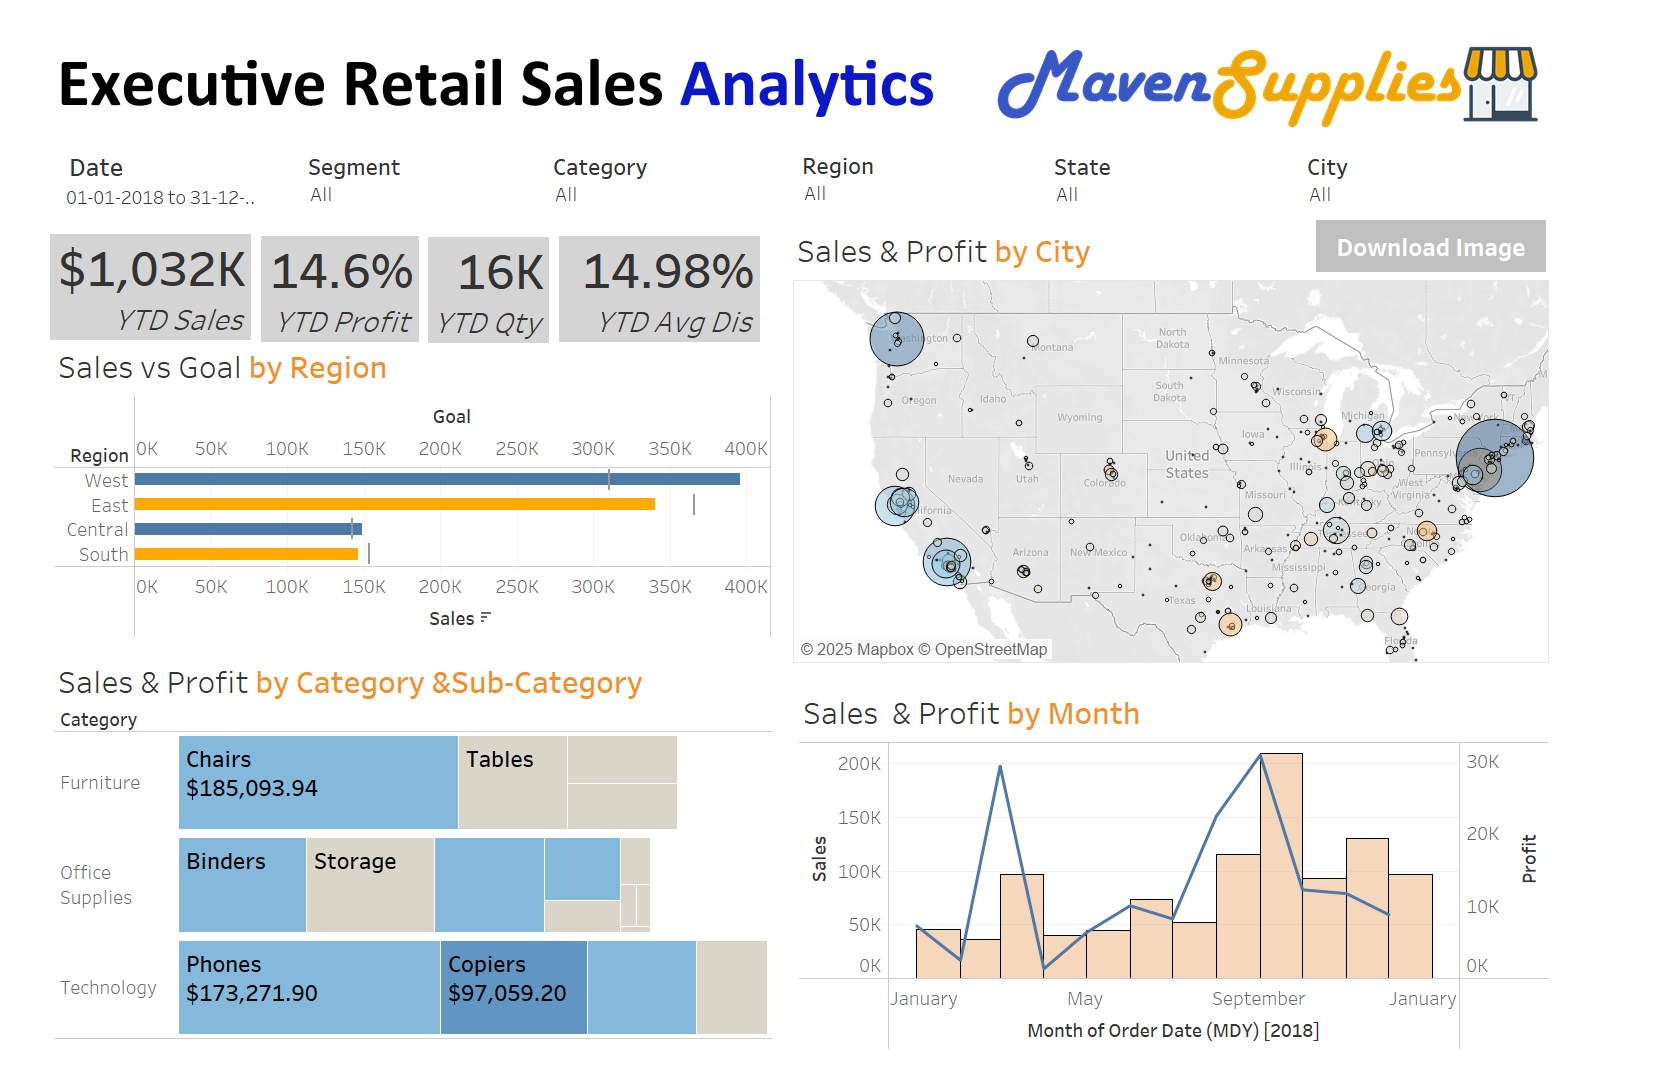

Layout of this report page (visuals, bound fields, positions):
{"tool":"tableau","page":{"name":"Dashboard 1","canvas":[1666,1068],"ordinal":0},"visuals":[{"type":"text","box":[53.1,22.5,921.5,118.7]},{"type":"image","param":"Image/Maven Supplies Logo.png","box":[988.2,34.4,549.8,115.1]},{"type":"filter","title":"Bar-Sales vs Goal ","param":"[federated.1nbz6l90fxkxe019r0o271yr07qn].[none:Order Date (MDY):qk]","box":[63,145,192,93]},{"type":"filter","title":"Bar-Sales vs Goal ","param":"[federated.1nbz6l90fxkxe019r0o271yr07qn].[none:Region:nk]","box":[802,149,199,76]},{"type":"filter","title":"Bar-Sales vs Goal ","param":"[federated.1nbz6l90fxkxe019r0o271yr07qn].[none:Segment:nk]","box":[308,150,205,95]},{"type":"filter","title":"Bar-Sales vs Goal ","param":"[federated.1nbz6l90fxkxe019r0o271yr07qn].[none:Category:nk]","box":[553,150,218,74]},{"type":"filter","title":"Bar-Sales vs Goal ","param":"[federated.1nbz6l90fxkxe019r0o271yr07qn].[none:State:nk]","box":[1054,150,195,80]},{"type":"filter","title":"Bar-Sales vs Goal ","param":"[federated.1nbz6l90fxkxe019r0o271yr07qn].[none:City:nk]","box":[1307,150,227,80]},{"type":"dashboard-object","box":[1385,206,164,52]},{"type":"worksheet","title":"YTD Sales","mark":"Automatic","box":[50,219,237,139]},{"type":"worksheet","title":"YTD Profit","mark":"Automatic","box":[239,222,172,125]},{"type":"worksheet","title":"YTD Qty","mark":"Automatic","box":[428,222,172,126]},{"type":"worksheet","title":"Map -S&P by City","mark":"Automatic","box":[793,223,756,440]},{"type":"worksheet","title":"YTD Avg Discount","mark":"Automatic","box":[573,224,234,143]},{"type":"worksheet","title":"Bar-Sales vs Goal ","mark":"Automatic","rows":["Region"],"cols":["Sales","Goal"],"box":[54,339,717,299]},{"type":"worksheet","title":"Tree-S&P by Cat&sub","mark":"Automatic","rows":["Category"],"box":[54,654,718,386]},{"type":"worksheet","title":"S&P by Month","mark":"Automatic","rows":["Sales","Profit"],"cols":["Order Date (MDY)"],"box":[799,685,750,365]}]}

Visuals, with their boxes in screenshot pixels (x1, y1, x2, y2), scaled from the page's 1666x1068 canvas onto the 1666x1068 screenshot:
text: [left=53, top=22, right=975, bottom=141]
image: [left=988, top=34, right=1538, bottom=150]
"Bar-Sales vs Goal " filter: [left=63, top=145, right=255, bottom=238]
"Bar-Sales vs Goal " filter: [left=802, top=149, right=1001, bottom=225]
"Bar-Sales vs Goal " filter: [left=308, top=150, right=513, bottom=245]
"Bar-Sales vs Goal " filter: [left=553, top=150, right=771, bottom=224]
"Bar-Sales vs Goal " filter: [left=1054, top=150, right=1249, bottom=230]
"Bar-Sales vs Goal " filter: [left=1307, top=150, right=1534, bottom=230]
dashboard-object: [left=1385, top=206, right=1549, bottom=258]
"YTD Sales" worksheet: [left=50, top=219, right=287, bottom=358]
"YTD Profit" worksheet: [left=239, top=222, right=411, bottom=347]
"YTD Qty" worksheet: [left=428, top=222, right=600, bottom=348]
"Map -S&P by City" worksheet: [left=793, top=223, right=1549, bottom=663]
"YTD Avg Discount" worksheet: [left=573, top=224, right=807, bottom=367]
"Bar-Sales vs Goal " worksheet: [left=54, top=339, right=771, bottom=638]
"Tree-S&P by Cat&sub" worksheet: [left=54, top=654, right=772, bottom=1040]
"S&P by Month" worksheet: [left=799, top=685, right=1549, bottom=1050]
